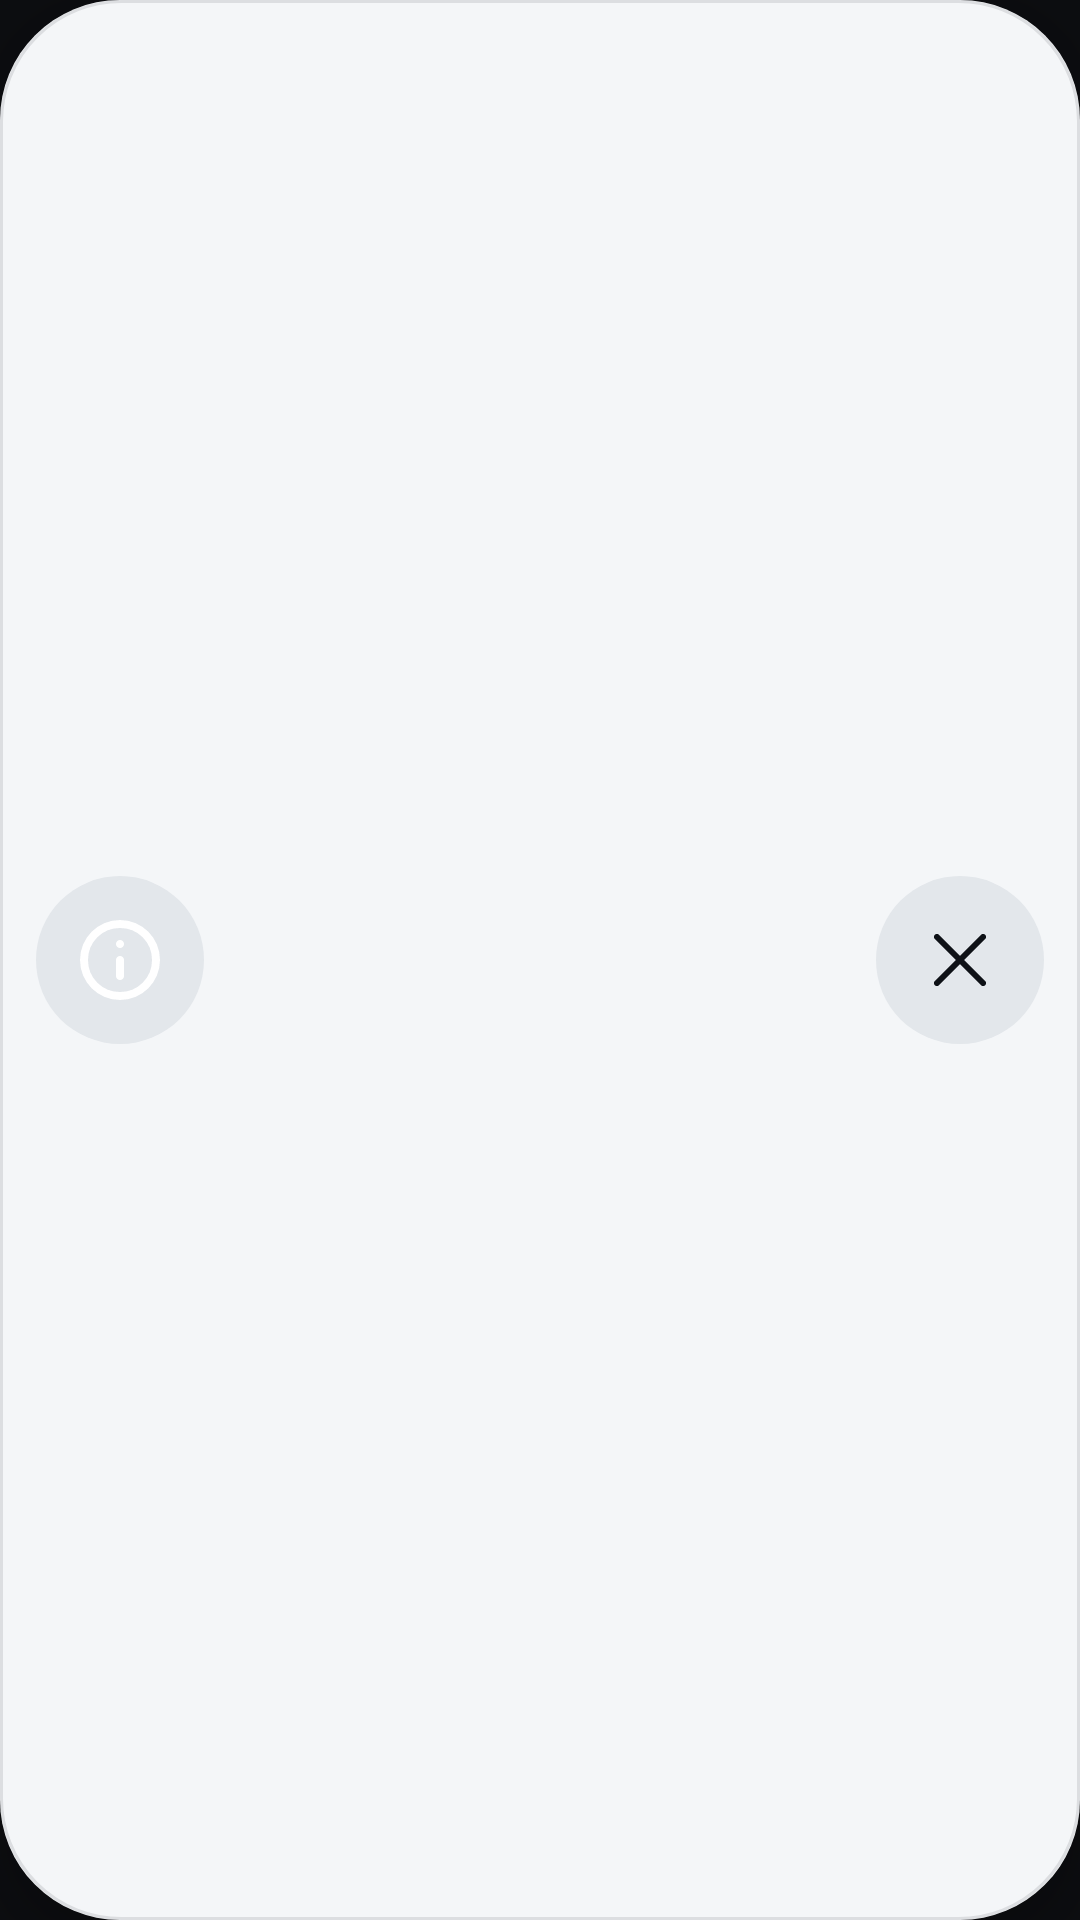

Screen size 1080×1920. Icon name, then its center in pixels as point (x, y):
sym close: point (960, 960)
sym info: point (120, 960)
